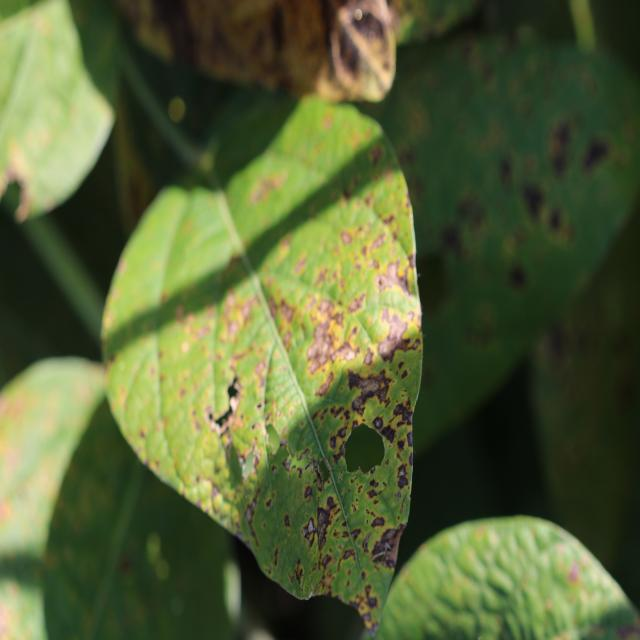Bacterial_Blight: (304, 300, 357, 373), (169, 309, 216, 370), (376, 306, 416, 369), (223, 291, 261, 339), (373, 256, 412, 297), (213, 375, 242, 430), (370, 524, 404, 562), (315, 502, 337, 550), (250, 172, 282, 205), (225, 441, 244, 482), (392, 399, 414, 427), (276, 298, 296, 327), (301, 516, 317, 543), (226, 254, 243, 278), (347, 292, 366, 313), (396, 465, 410, 490), (368, 145, 383, 167), (293, 559, 304, 586), (313, 467, 326, 489), (245, 501, 256, 525), (362, 611, 375, 629), (204, 405, 216, 424), (362, 532, 372, 553), (211, 486, 221, 506), (174, 305, 185, 323), (340, 230, 353, 245), (370, 516, 385, 528), (332, 451, 344, 466), (303, 485, 313, 501), (282, 457, 292, 472), (367, 595, 378, 608), (373, 417, 383, 430), (337, 426, 347, 439), (273, 547, 279, 567), (397, 439, 406, 452), (326, 495, 335, 508), (329, 436, 338, 449), (369, 478, 378, 489), (279, 437, 288, 448), (283, 514, 290, 528), (408, 452, 413, 467), (370, 467, 375, 474)
Soybean: (102, 103, 423, 634)
